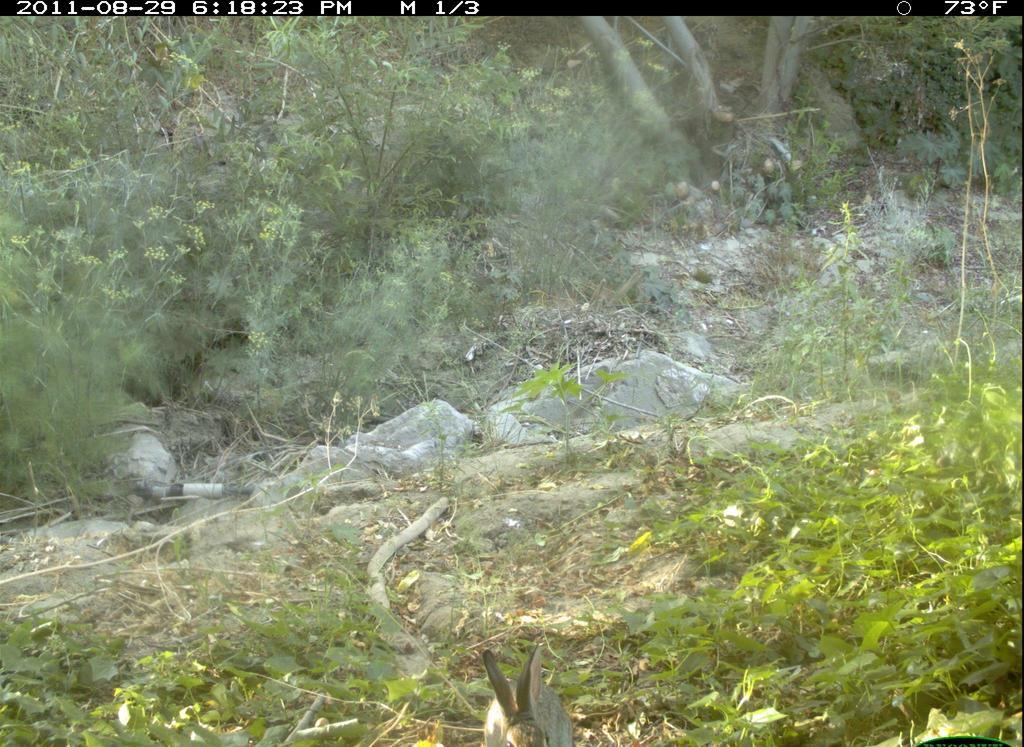rabbit: (469, 632, 582, 747)
